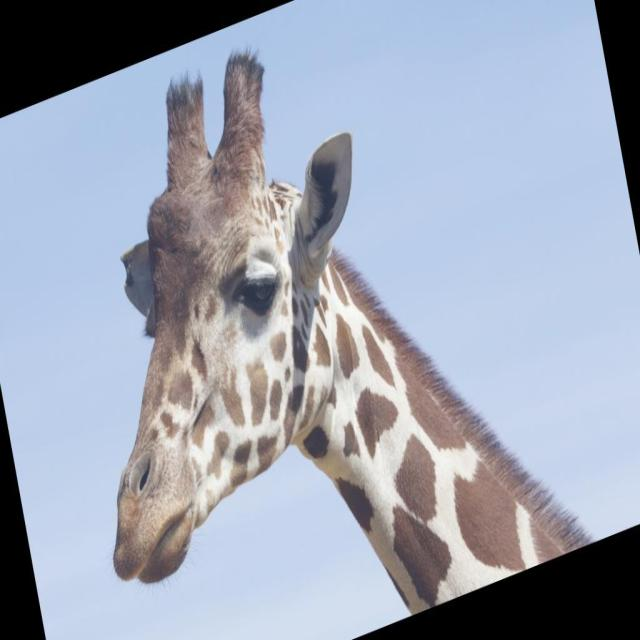Giraffe: (105, 49, 592, 622)
